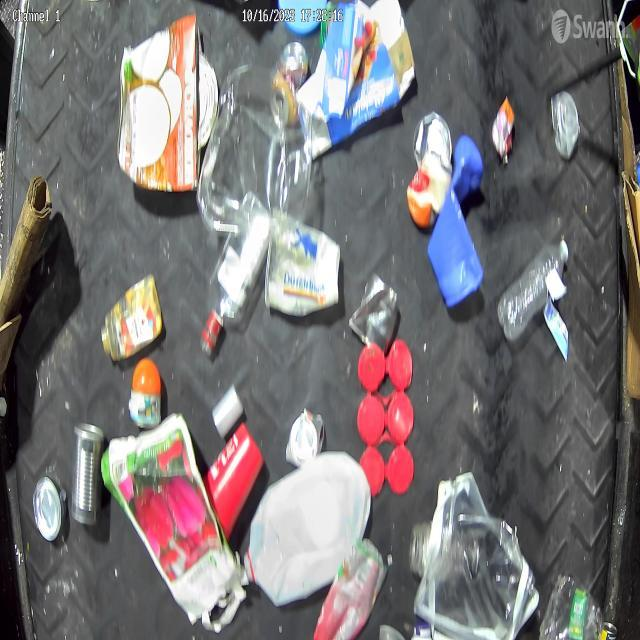can: (112, 17, 214, 214), (62, 422, 116, 546)
milk_jug: (242, 458, 374, 594)
plastic_bottle: (500, 227, 572, 347)
